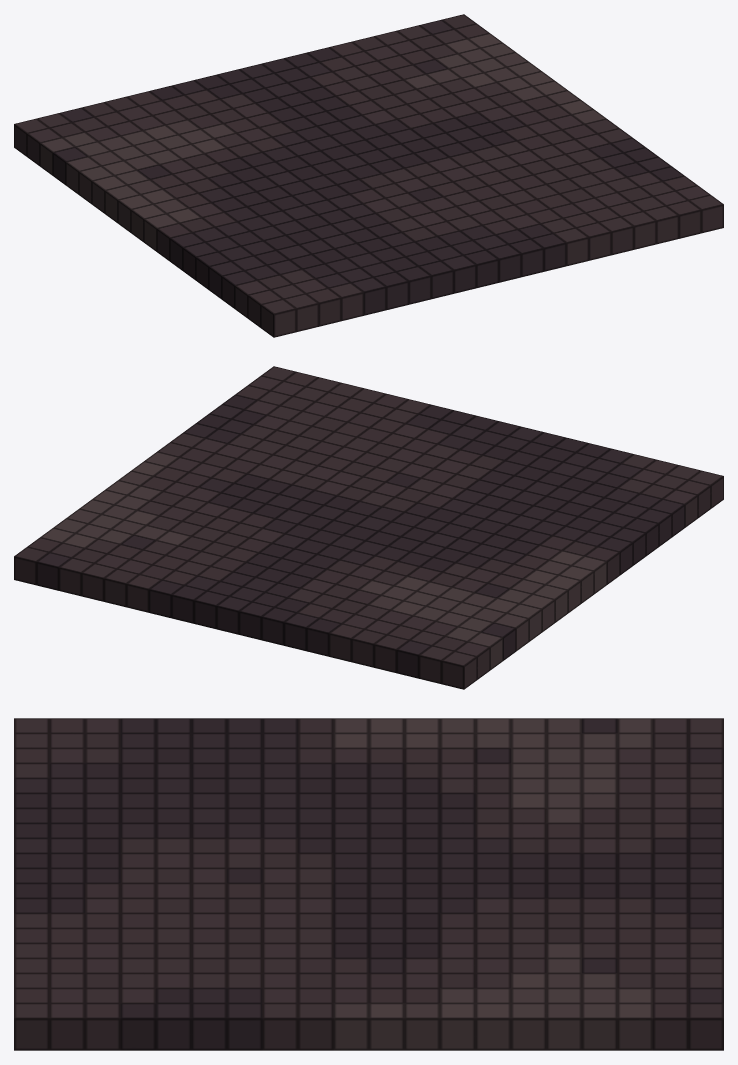
File: floor_tile_a.glb
3 renders of one model, top to bottom at view 1: azimuth 30°, elevation 25°; view 2: azimuth 150°, elevation 25°; view 3: azimuth 270°, elevation 25°, orthographic. The views are drawn at different scales.
Parts seen in each view (by area): view 1: floor_tile_a; view 2: floor_tile_a; view 3: floor_tile_a.
Boxes of the visible parts, box(x1,y1,x2,y2) form: floor_tile_a: box(14, 14, 723, 337); floor_tile_a: box(14, 366, 723, 689); floor_tile_a: box(14, 718, 723, 1050).
Size of the model in its own units: 1 by 0.05 by 1.
3 materials, 3 textured.
